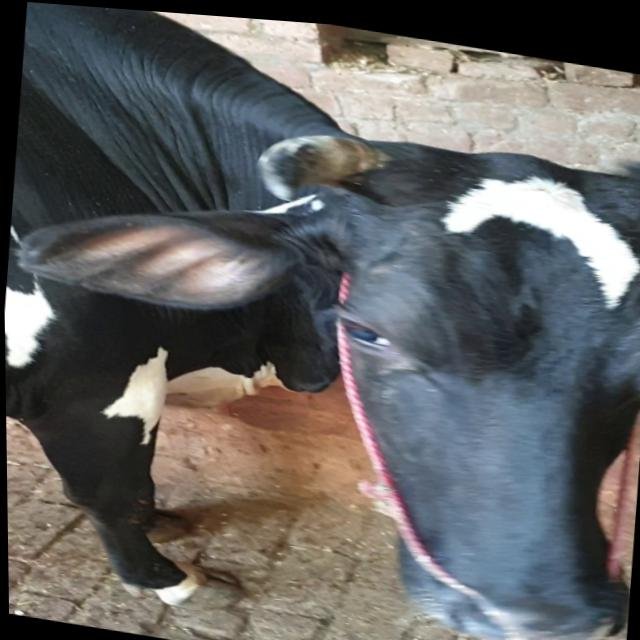cowFace: (309, 106, 640, 637)
